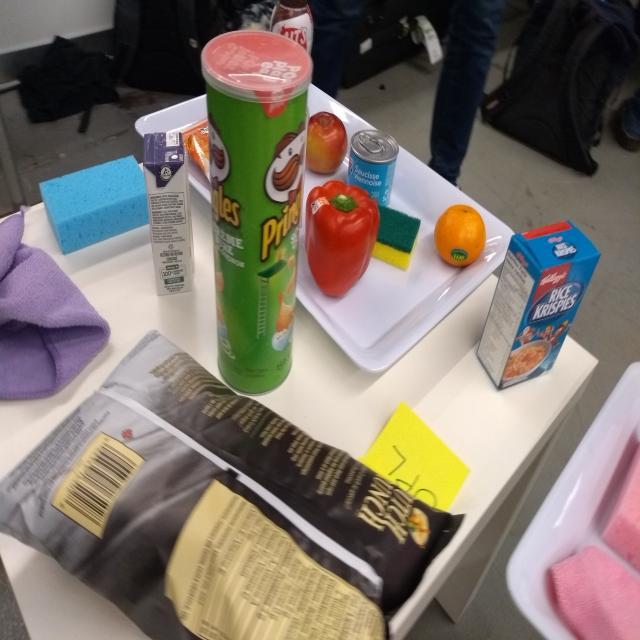apple: (306, 111, 350, 177)
cereal: (473, 219, 602, 394)
grape_juice: (139, 127, 202, 299)
orange: (433, 202, 491, 271)
paprika: (307, 181, 378, 301)
potato_chips: (17, 344, 442, 640)
pringles: (197, 27, 311, 404)
sausages: (347, 129, 399, 210)
scrubby: (372, 203, 421, 273)
sponge_opl: (40, 153, 151, 254)
